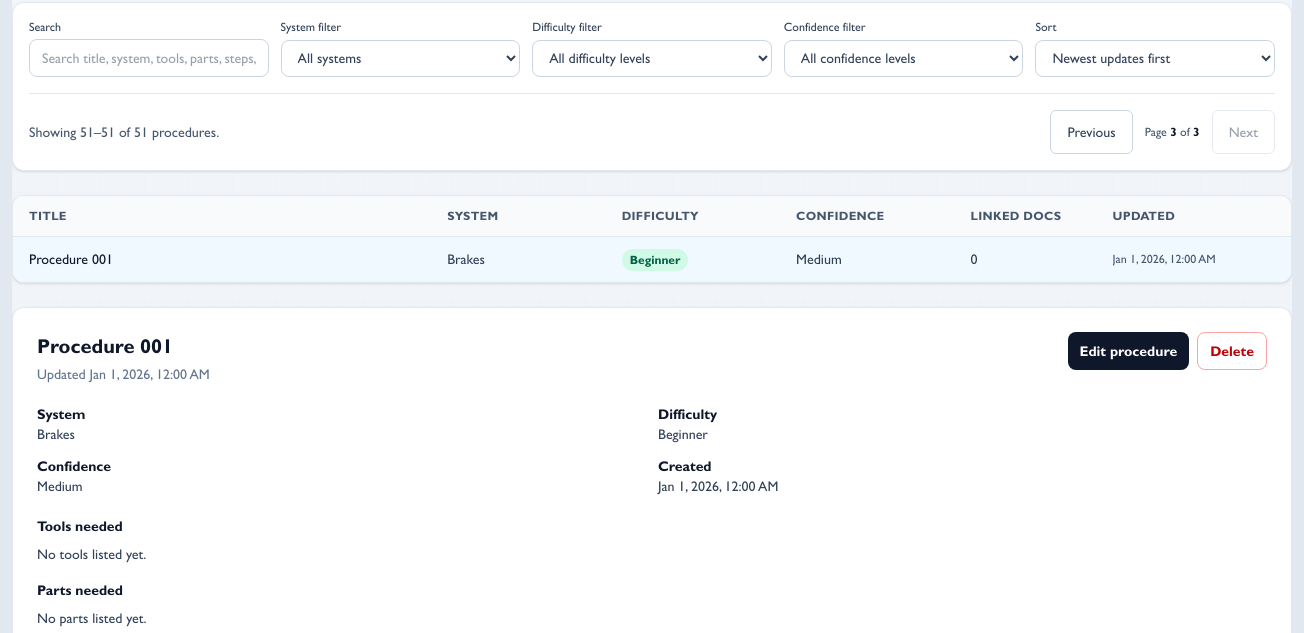
Scenario: deleting the only row on the last page steps back a page
(page scrolled)
Click the button "Delete". click: (1232, 351)
box: [1197,332,1267,370]
(page scrolled)
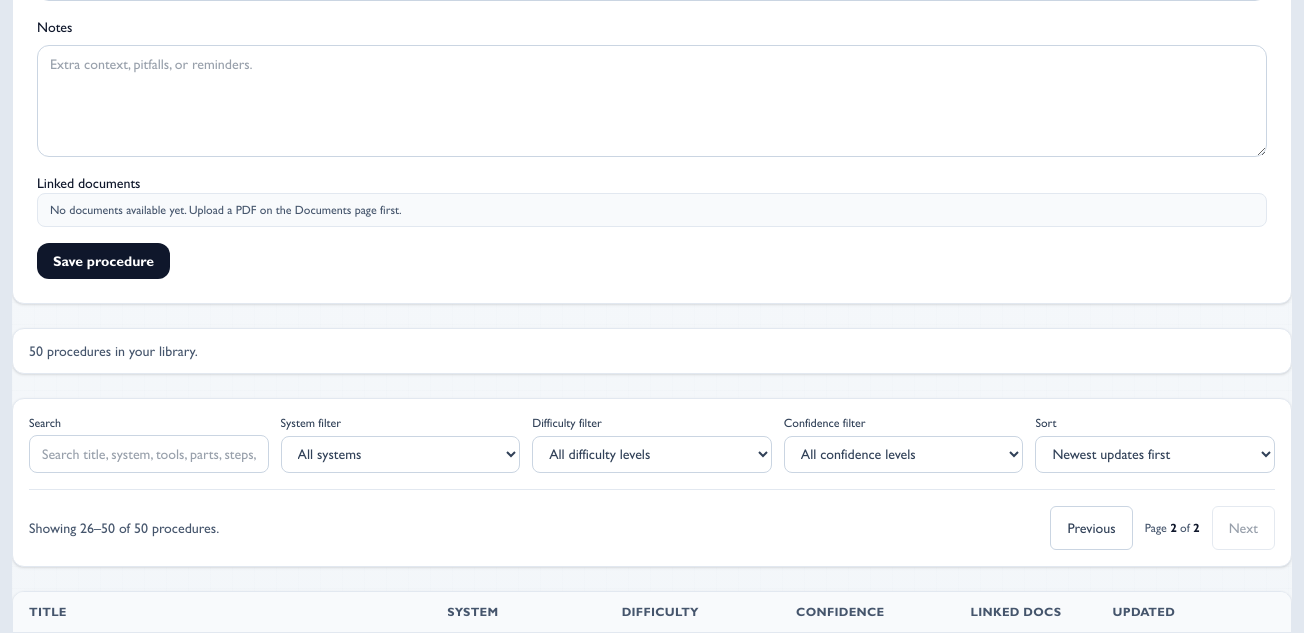
Expected: the text "50 procedures in your library." is shown, [12,328,1292,374]
